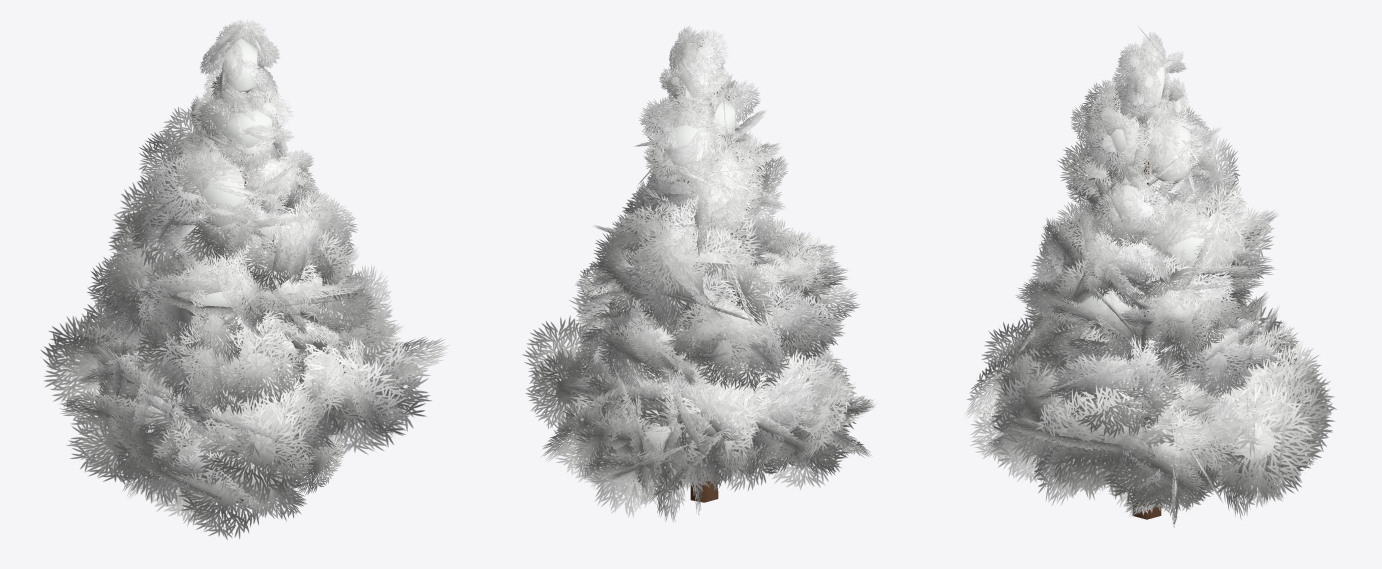
Rendered from gran-full.glb.
3 renders of one model, left to right at view 1: azimuth 30°, elevation 25°; view 2: azimuth 150°, elevation 25°; view 3: azimuth 270°, elevation 25°, orthographic. The views are drawn at different scales.
Parts seen in each view (by area): view 1: crown; view 2: crown; view 3: crown.
Part boxes in pixels (x1,y1,x2,y2): crown: (40, 19, 449, 539); crown: (522, 26, 876, 522); crown: (965, 28, 1336, 527).
Size of the model in its own units: 17.37 by 20.06 by 16.01.
2 materials, 1 textured.
